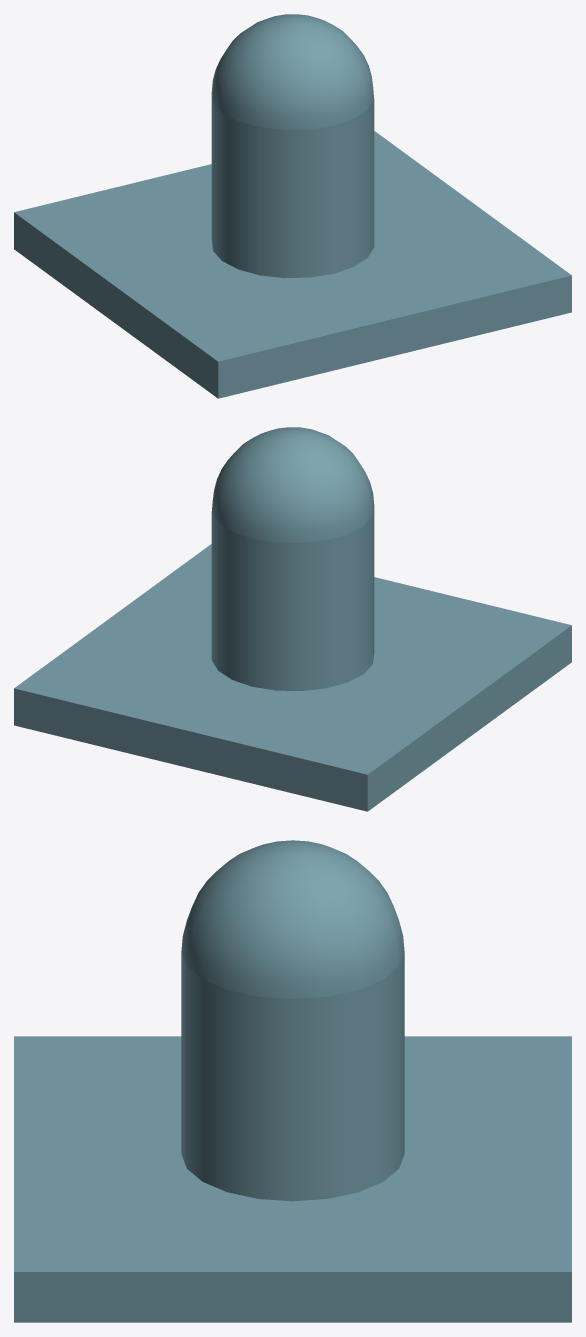
File: pole.fbx
3 renders of one model, top to bottom at view 1: azimuth 30°, elevation 25°; view 2: azimuth 150°, elevation 25°; view 3: azimuth 270°, elevation 25°, orthographic. The views are drawn at different scales.
Visible parts, largest first — view 1: polySurface2; view 2: polySurface2; view 3: polySurface2.
Part boxes in pixels (bbox=[...]): polySurface2: bbox=[14, 14, 571, 398]; polySurface2: bbox=[14, 427, 571, 811]; polySurface2: bbox=[14, 840, 571, 1322].
Bounding box in the file's own units: 5 × 3.5 × 5.
